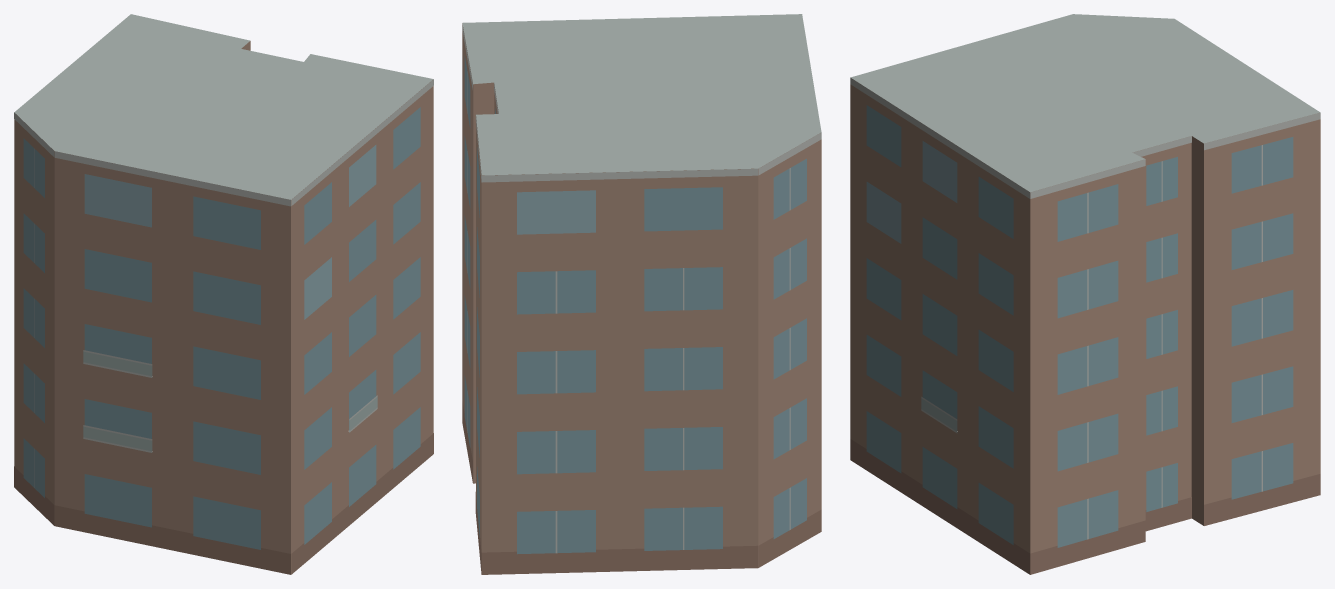
The model's file is survey-upis-32886920.glb.
The picture shows the model from 3 angles, left to right: view 1: azimuth 30°, elevation 25°; view 2: azimuth 150°, elevation 25°; view 3: azimuth 270°, elevation 25°; orthographic projection. The views are drawn at different scales.
Parts seen in each view (by area): view 1: survey-upis-32886920.tmp; view 2: survey-upis-32886920.tmp; view 3: survey-upis-32886920.tmp.
Boxes of the visible parts, x1,y1,x2,y2 form: survey-upis-32886920.tmp: [14, 14, 433, 574]; survey-upis-32886920.tmp: [462, 14, 821, 574]; survey-upis-32886920.tmp: [850, 14, 1320, 574].
Size of the model in its own units: 13.8 by 13.8 by 15.38.
